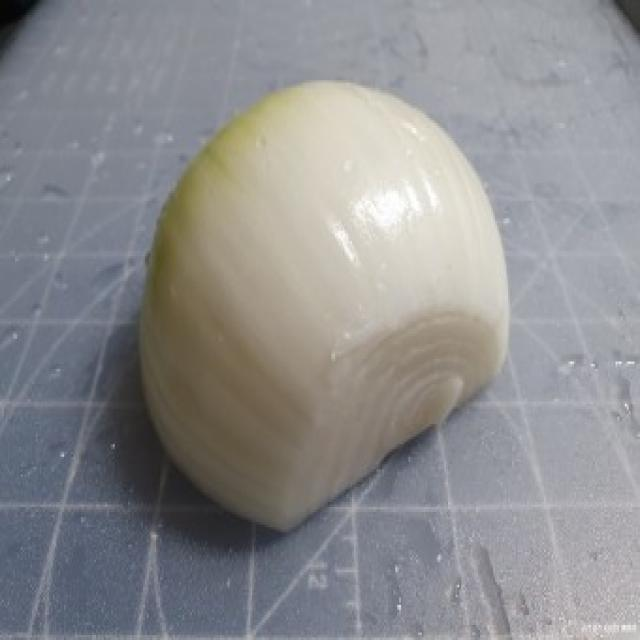onion: (108, 65, 542, 553)
